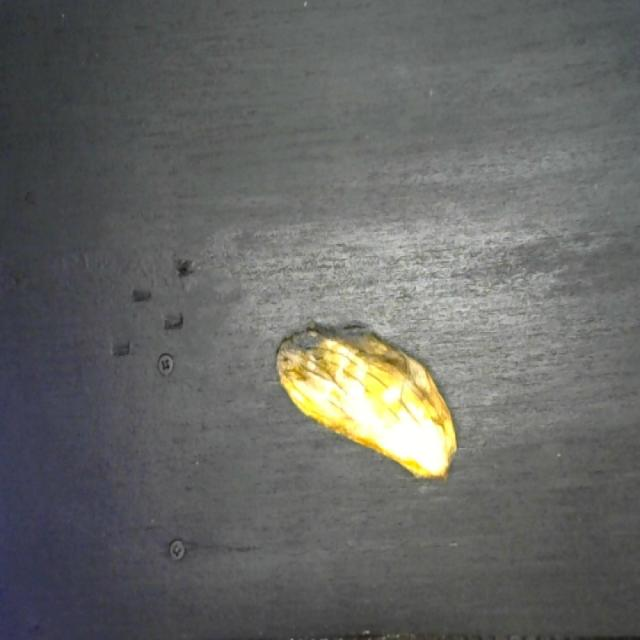biodegradable: (271, 315, 461, 485)
